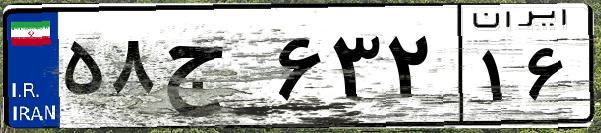1: (475, 38, 525, 113)
2: (385, 28, 445, 110)
3: (330, 28, 385, 110)
5: (57, 26, 110, 100)
6: (270, 28, 330, 110), (525, 38, 570, 115)
8: (110, 28, 158, 98)
ج: (158, 20, 270, 120)
